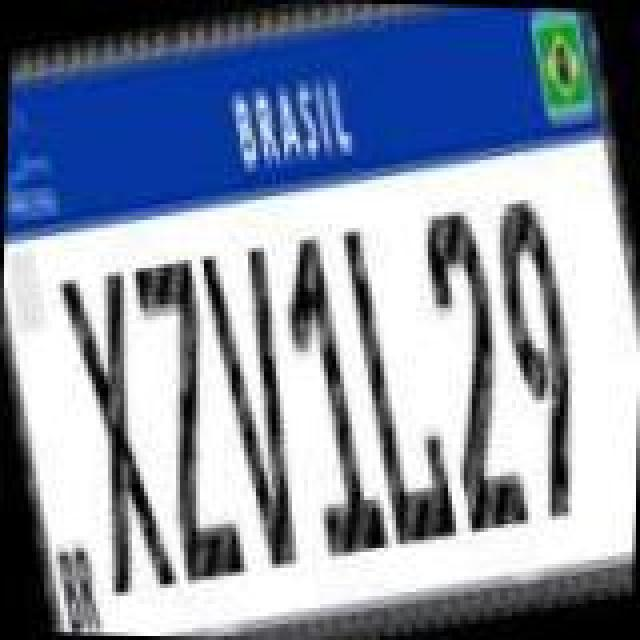1: (258, 222, 402, 562)
2: (400, 198, 540, 534)
9: (470, 184, 610, 520)
L: (326, 210, 470, 546)
V: (184, 236, 328, 576)
X: (44, 264, 188, 600)
Z: (118, 248, 258, 584)
